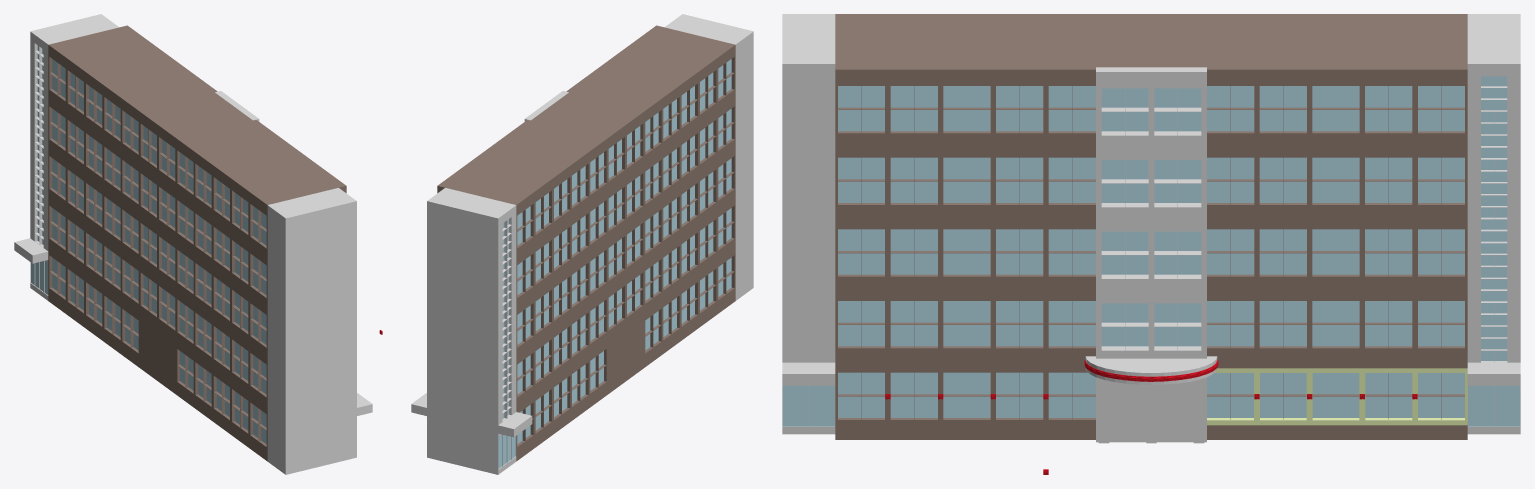
Rendered from 6building.glb.
3 renders of one model, left to right at view 1: azimuth 30°, elevation 25°; view 2: azimuth 150°, elevation 25°; view 3: azimuth 270°, elevation 25°, orthographic. The views are drawn at different scales.
Visible parts, largest first — view 1: main, sidebar-1, 정면창문, sidebar-2, Cube.038, rightside-in-left, Cube.029; view 2: main, sidebar-2, 정면창문, sidebar-1, Cube.038, rightside-in-left, Cube.029; view 3: main, 정면창문.001, center, sidebar-1, sidebar-2, Cube.027, Cylinder, Cube.017, Cube.018, Cube.015, leftside-in, rightside-in-right (+4 smaller).
Part boxes in pixels (left/top/right/bottom): main: left=48, top=25, right=346, bottom=461; sidebar-1: left=267, top=188, right=356, bottom=474; 정면창문: left=52, top=59, right=266, bottom=443; sidebar-2: left=30, top=14, right=118, bottom=300; Cube.038: left=37, top=45, right=43, bottom=244; rightside-in-left: left=14, top=238, right=48, bottom=263; Cube.029: left=31, top=261, right=48, bottom=294; main: left=437, top=25, right=735, bottom=461; sidebar-2: left=427, top=188, right=516, bottom=474; 정면창문: left=517, top=59, right=731, bottom=443; sidebar-1: left=665, top=14, right=753, bottom=300; Cube.038: left=502, top=219, right=508, bottom=418; rightside-in-left: left=498, top=412, right=532, bottom=437; Cube.029: left=498, top=434, right=515, bottom=468; main: left=835, top=14, right=1467, bottom=439; 정면창문.001: left=838, top=86, right=1464, bottom=417; center: left=1096, top=67, right=1206, bottom=442; sidebar-1: left=782, top=14, right=835, bottom=434; sidebar-2: left=1467, top=14, right=1520, bottom=434; Cube.027: left=1481, top=76, right=1507, bottom=313; Cylinder: left=1085, top=356, right=1217, bottom=384; Cube.017: left=782, top=385, right=834, bottom=426; Cube.018: left=1468, top=385, right=1520, bottom=426; Cube.015: left=1207, top=418, right=1467, bottom=425; leftside-in: left=782, top=362, right=835, bottom=385; rightside-in-right: left=1467, top=362, right=1520, bottom=385.
Bounding box in the file's own units: 129 × 155 × 280.
